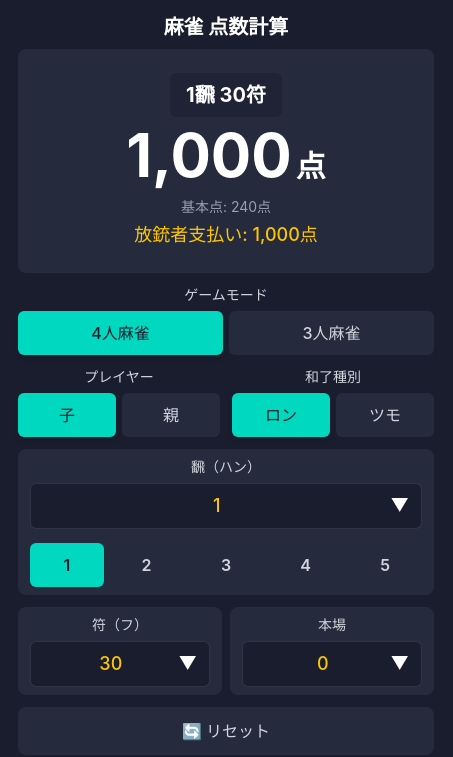
Test: リセットボタンですべての値がデフォルトに戻る
Click the button "親" at coordinates (171, 415), box [122,393,220,437]
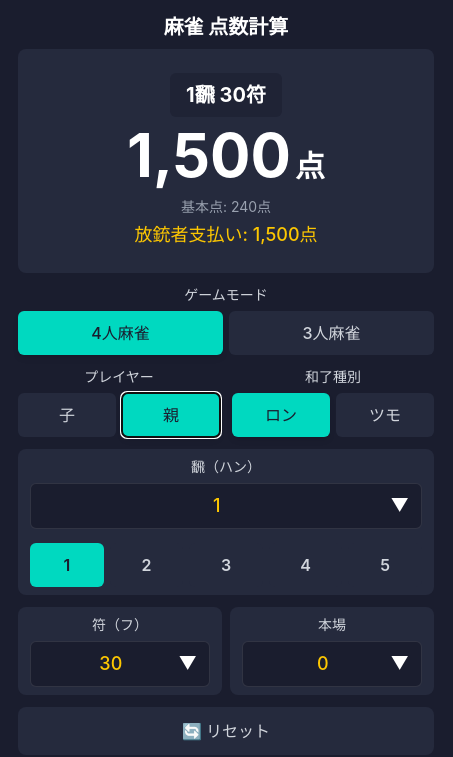
Click the button "ツモ" at coordinates (385, 415), box [336,393,434,437]
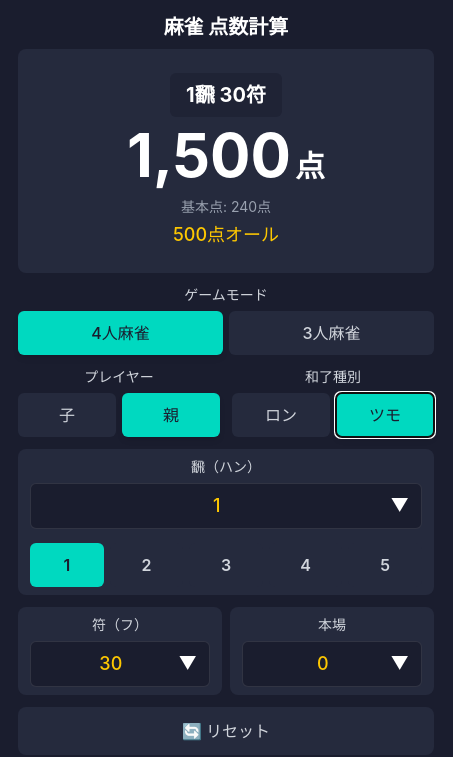
Click the button "3" at coordinates (226, 565), box [189,543,263,587]
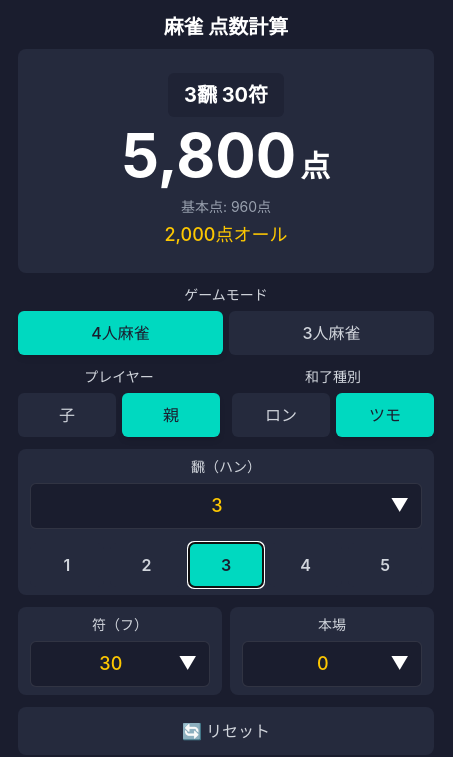
Check: the text "2,000点オール" is shown, box [164,224,287,245]
Note: リセットボタンをクリック
Click the button "🔄 リセット" at coordinates (226, 731), box [18,707,434,755]
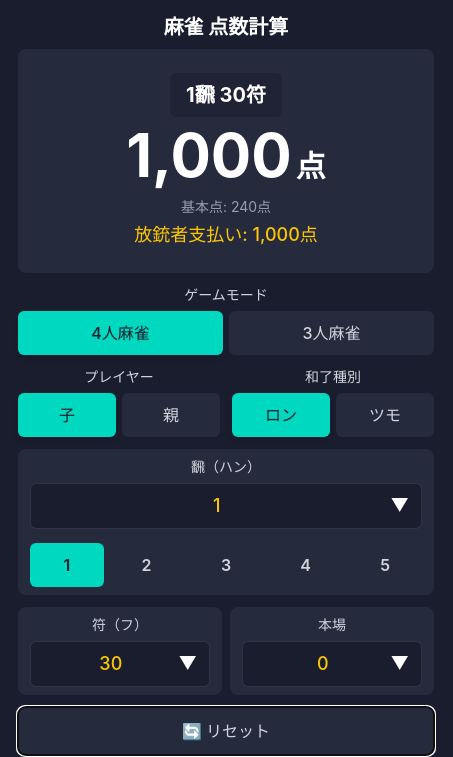
Check: the text "放銃者支払い: 1,000点" is shown, box [134,224,318,245]
